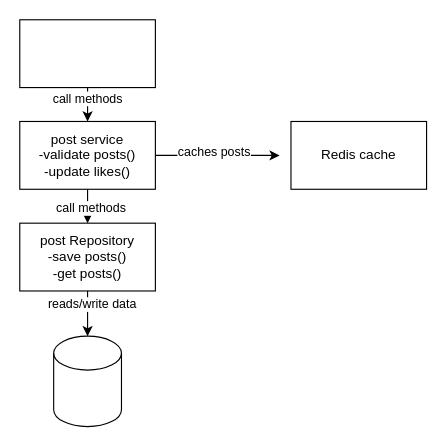
This 446x446 diagram has some shape labels left out. The shapes that lost their labels are listed below. From the top down, each one's box as (x1, y1, x2, y2) in pixels, then its label:
(19, 19, 155, 88): post controller -create post() -like post()
(53, 335, 121, 427): Database
